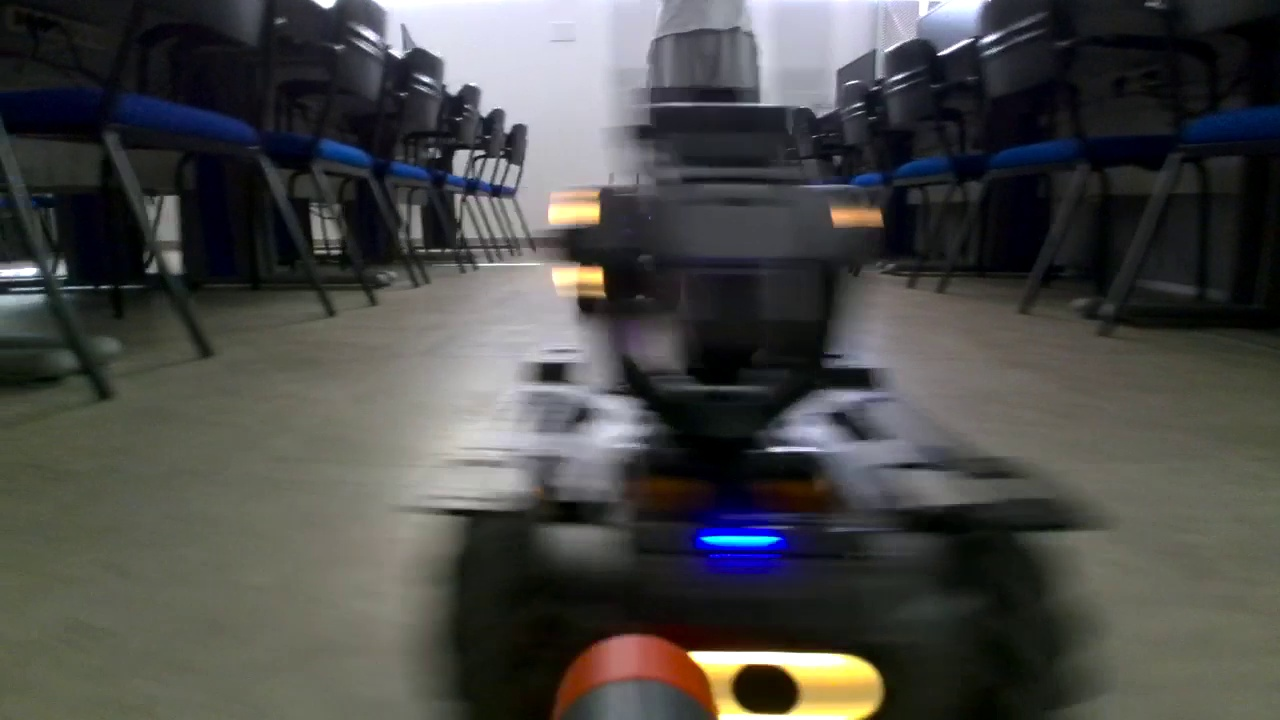robot: (429, 48, 1107, 711)
